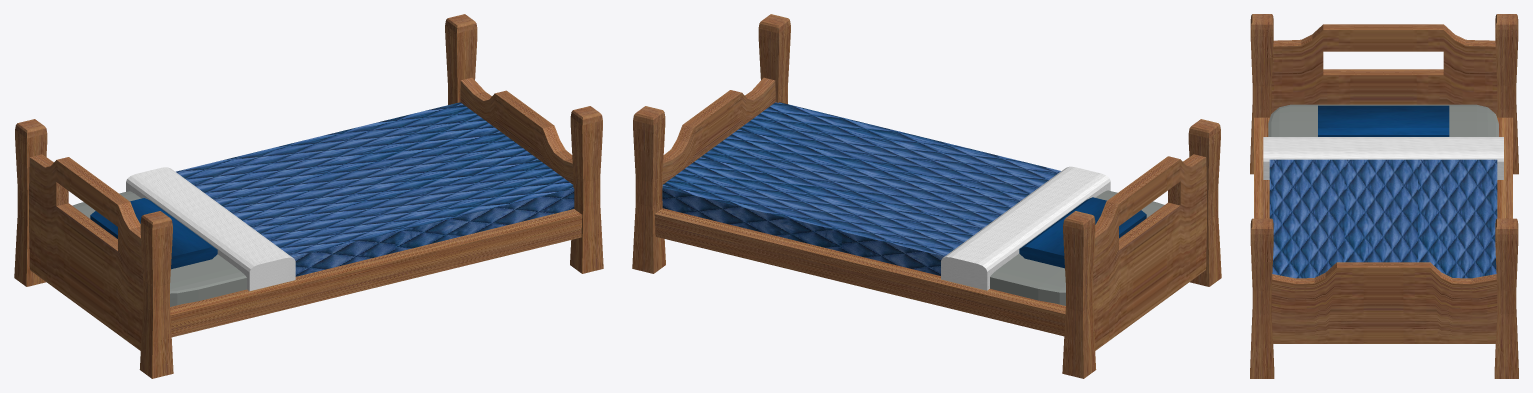
The model's file is cama2.fbx.
3 views of the same model, side by side, from view 1: azimuth 30°, elevation 25°; view 2: azimuth 150°, elevation 25°; view 3: azimuth 270°, elevation 25° (orthographic). The views are drawn at different scales.
Parts seen in each view (by area): view 1: Cube.012; view 2: Cube.012; view 3: Cube.012.
Part boxes in pixels (<box>): Cube.012: <box>14,14,603,378</box>; Cube.012: <box>632,14,1221,378</box>; Cube.012: <box>1250,14,1518,378</box>.
Size of the model in its own units: 4213 by 1384 by 2229.
Materials: 5 (5 with a texture image).
